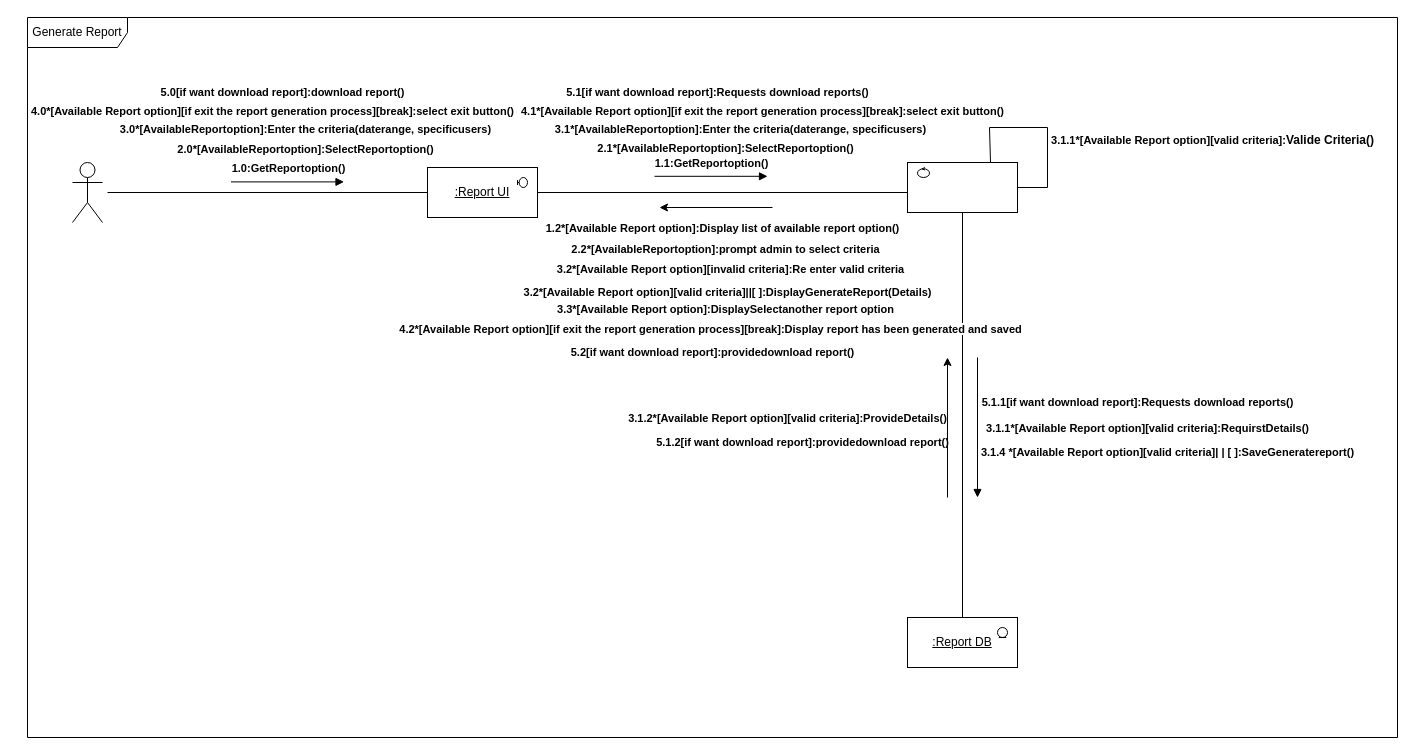
Image size: 1415x755. Some labels were removed from this diagram. Here are the shapes that lost their labels. From the top down, the centre of each, then its label:
At [87,192]: "Admin".
At [962,187]: ":GenerateReport".
